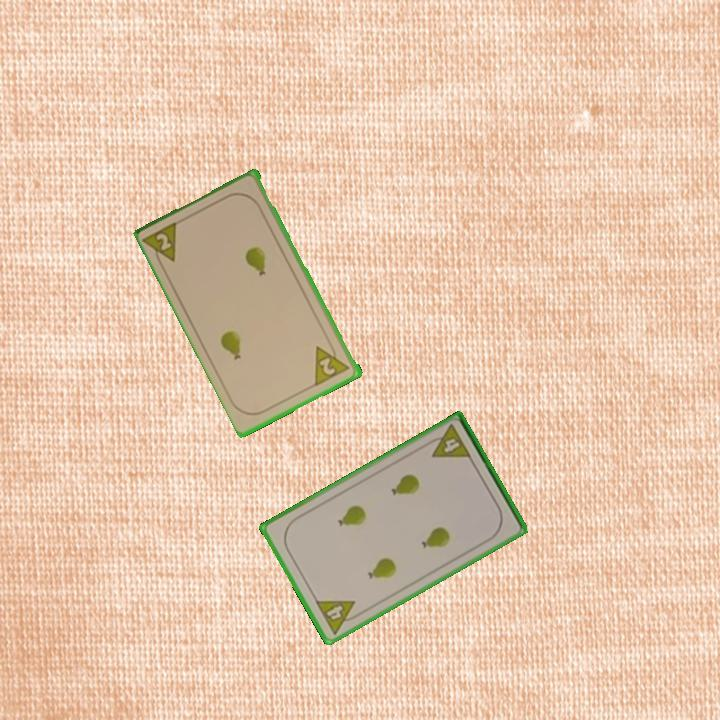2p: (141, 217, 182, 271), (311, 338, 354, 388)
4p: (312, 597, 364, 637), (423, 421, 474, 461)
